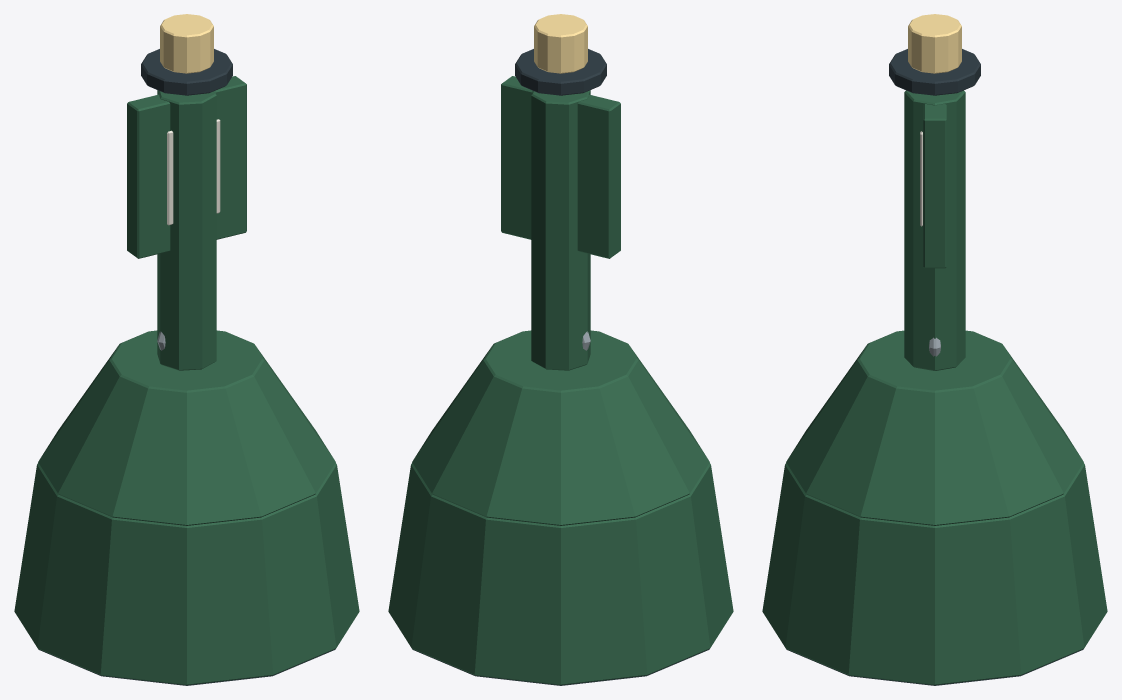
File: b20_channel_marker_buoy.glb
3 renders of one model, left to right at view 1: azimuth 30°, elevation 25°; view 2: azimuth 150°, elevation 25°; view 3: azimuth 270°, elevation 25°, orthographic.
Visible parts, largest first — view 1: b20_channel_marker_buoy; view 2: b20_channel_marker_buoy; view 3: b20_channel_marker_buoy.
Boxes of the visible parts, left/top/right/bottom form: b20_channel_marker_buoy: left=14, top=14, right=359, bottom=685; b20_channel_marker_buoy: left=388, top=14, right=733, bottom=685; b20_channel_marker_buoy: left=762, top=14, right=1107, bottom=685.
Bounding box in the file's own units: 0.8989 × 1.79 × 0.8989.
